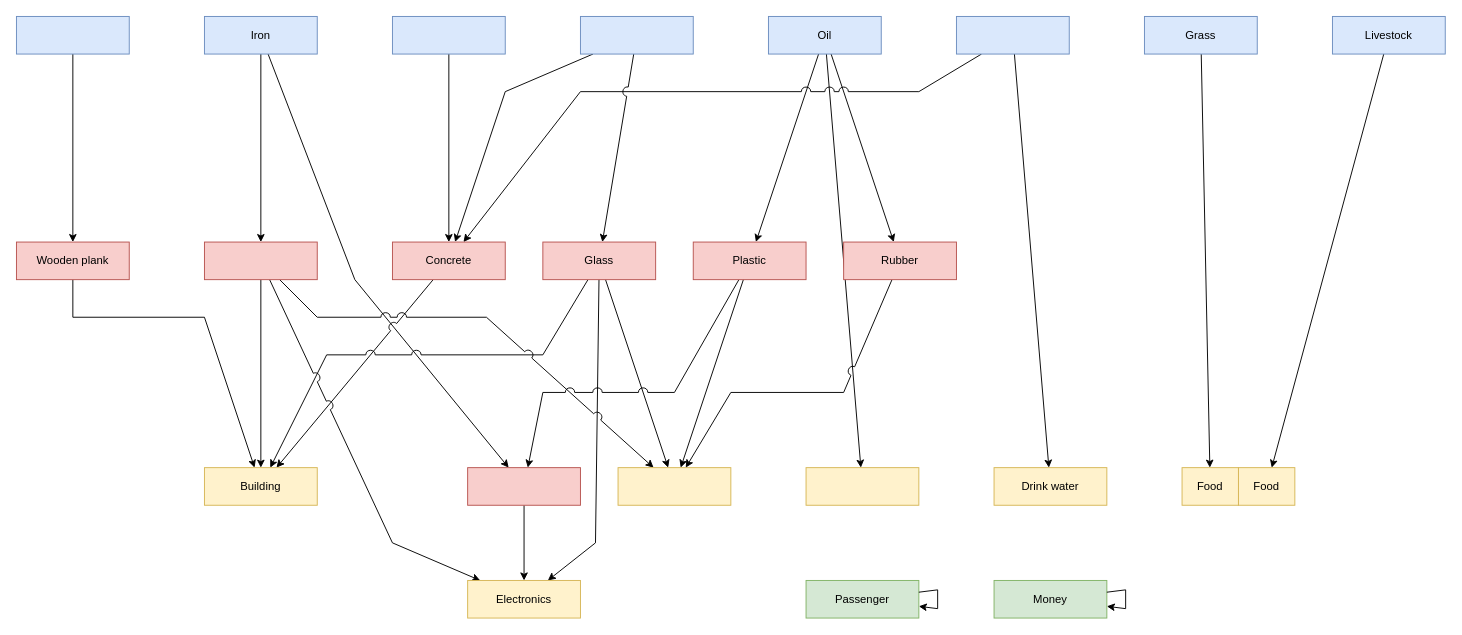
Image size: 1462x635. Some labels were removed from this diagram. The shapes that lost their labels are listed below. From the top down, each one's centre as x and y in pixels, then its label:
point 72,35: Log
point 448,35: Stone
point 636,35: Sand
point 1012,35: Water
point 260,260: Steel
point 523,486: Electric circuit
point 674,486: Car
point 862,486: Petrol
